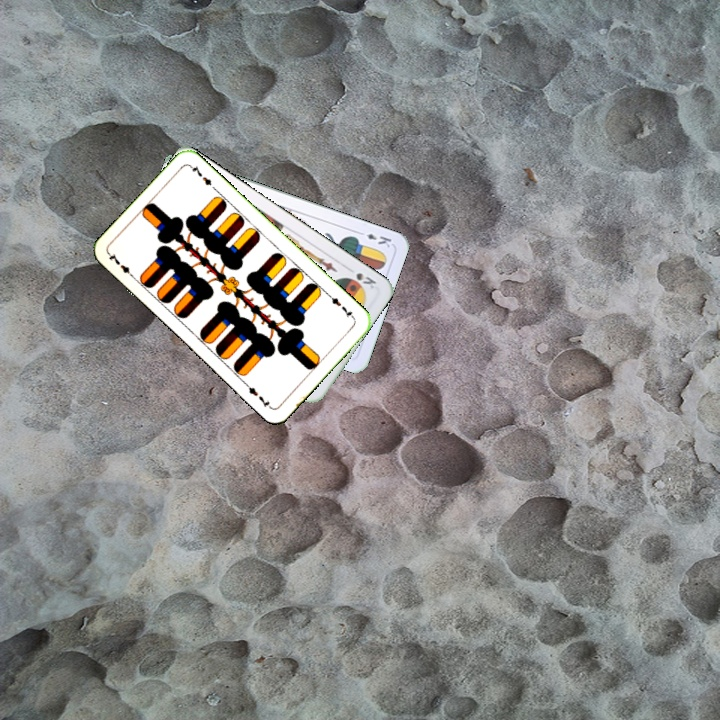E7: (324, 290, 357, 322), (105, 249, 137, 281)
EK: (354, 228, 394, 250)
SK: (345, 269, 379, 291)
